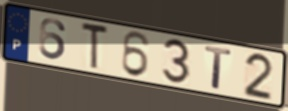2: (242, 51, 275, 103)
3: (159, 36, 194, 87)
6: (120, 30, 151, 79), (38, 18, 68, 63)
T: (80, 20, 110, 72), (203, 44, 234, 92)
